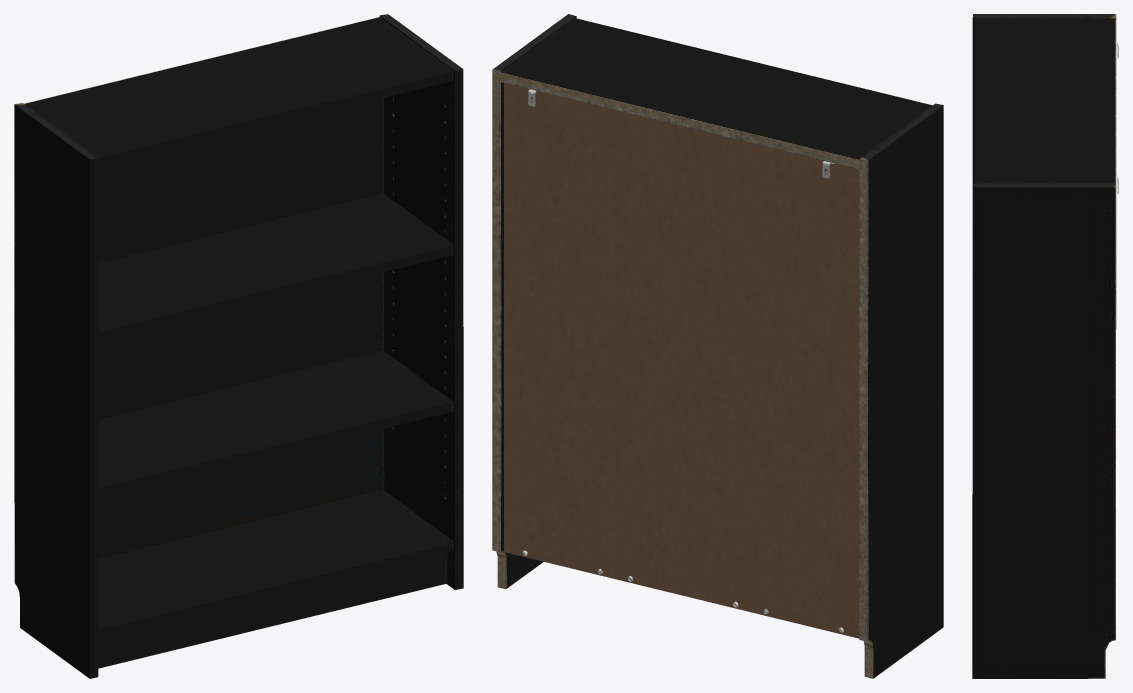
Rendered from 18 - BILLY Bookcase - black oak effect 80x28x106 cm.glb.
3 renders of one model, left to right at view 1: azimuth 30°, elevation 25°; view 2: azimuth 150°, elevation 25°; view 3: azimuth 270°, elevation 25°, orthographic. The views are drawn at different scales.
Parts seen in each view (by area): view 1: ASY_ART_00477337_S01_NV01; view 2: ASY_ART_00477337_S01_NV01; view 3: ASY_ART_00477337_S01_NV01.
Boxes of the visible parts, x1,y1,x2,y2 form: ASY_ART_00477337_S01_NV01: (14, 14, 463, 678); ASY_ART_00477337_S01_NV01: (492, 14, 943, 678); ASY_ART_00477337_S01_NV01: (972, 14, 1118, 678).
Size of the model in its own units: 0.798 by 1.06 by 0.2855.
1 material, 1 textured.
